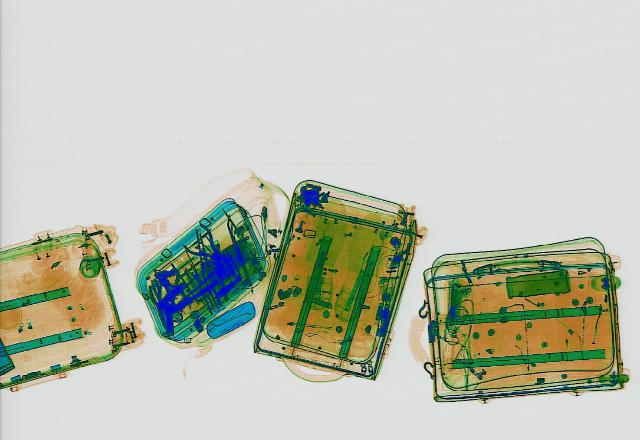Pliers: (170, 222, 240, 268)
